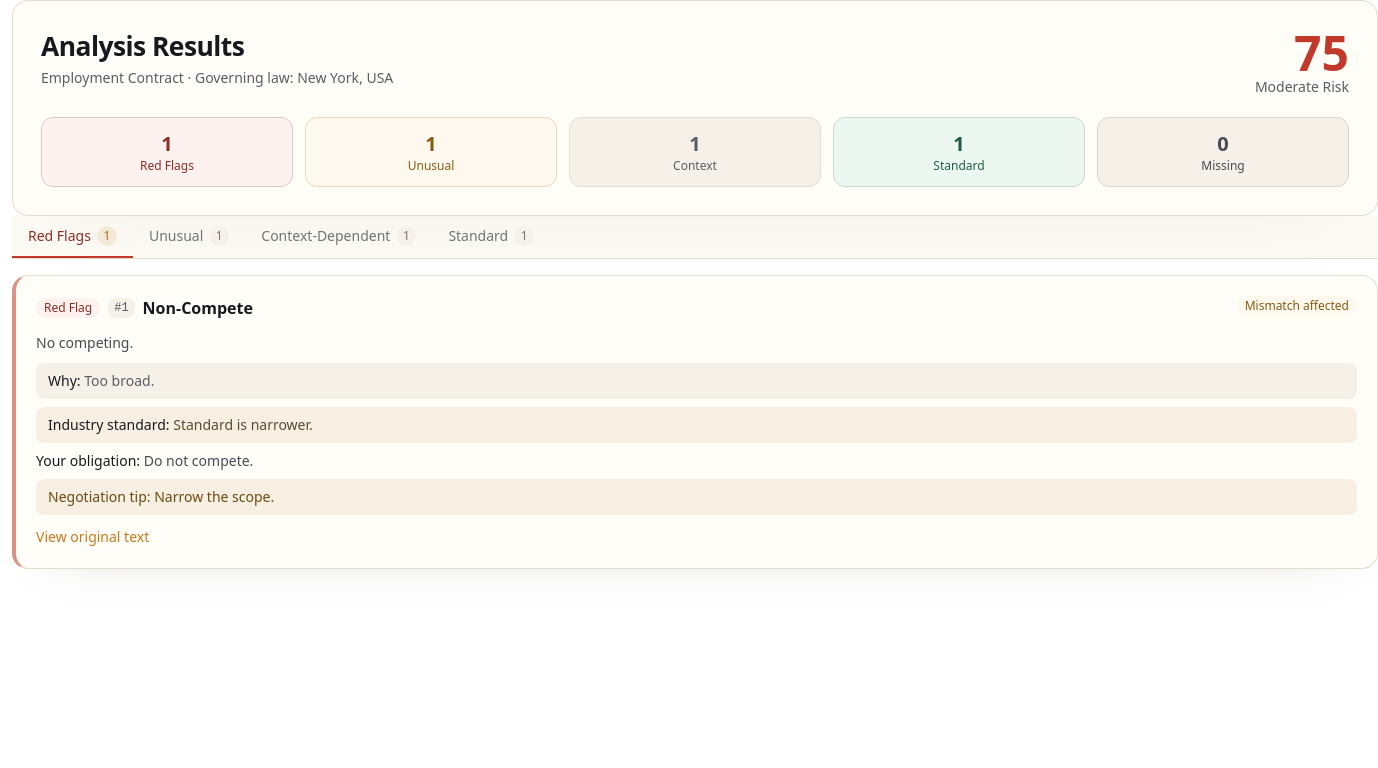
Test: RiskDashboard › switches tabs to show GREEN clauses
This screenshot has width=1378, height=768.
Click the tab "Standard 1": (491, 237) [432,216,550,258]
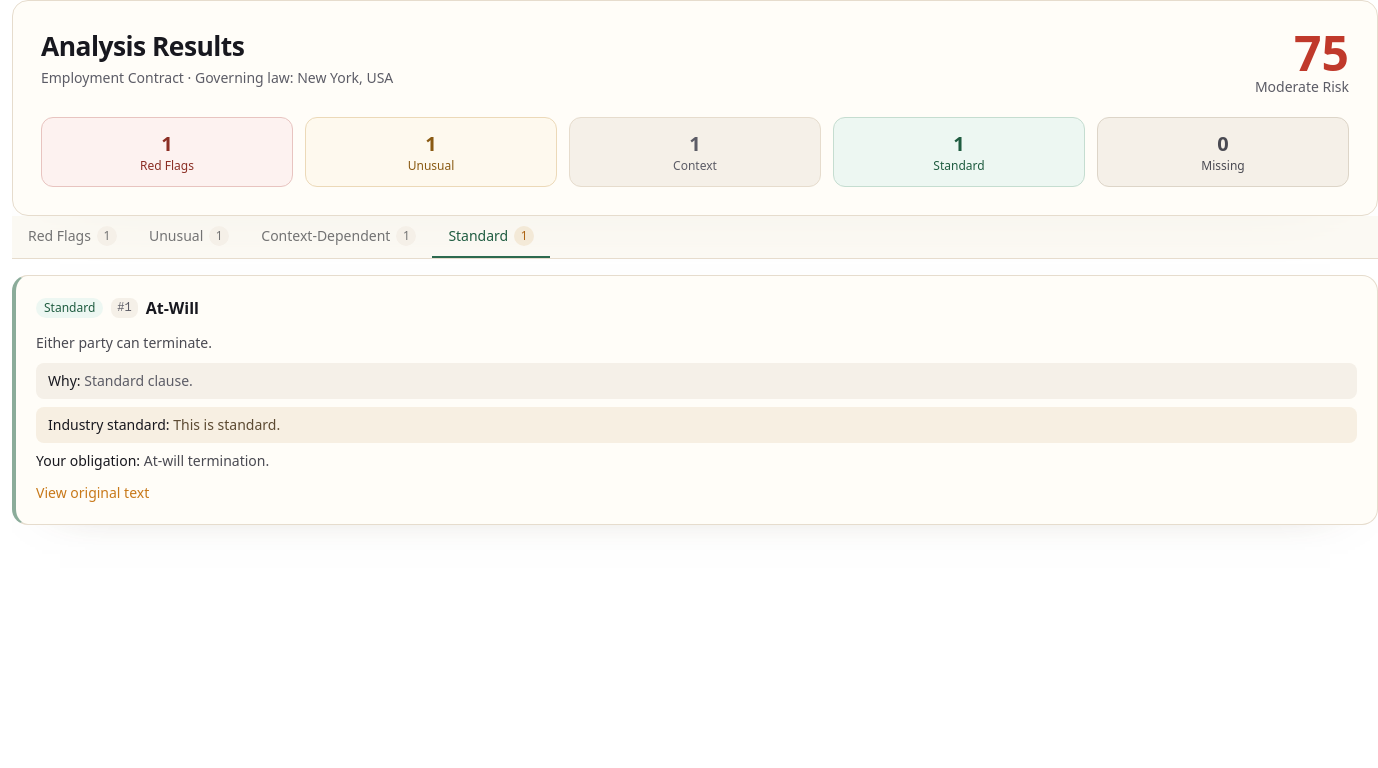
Check: the heading "At-Will" is shown, box [146,296,199,320]
Check: the heading "Non-Compete" is gone
